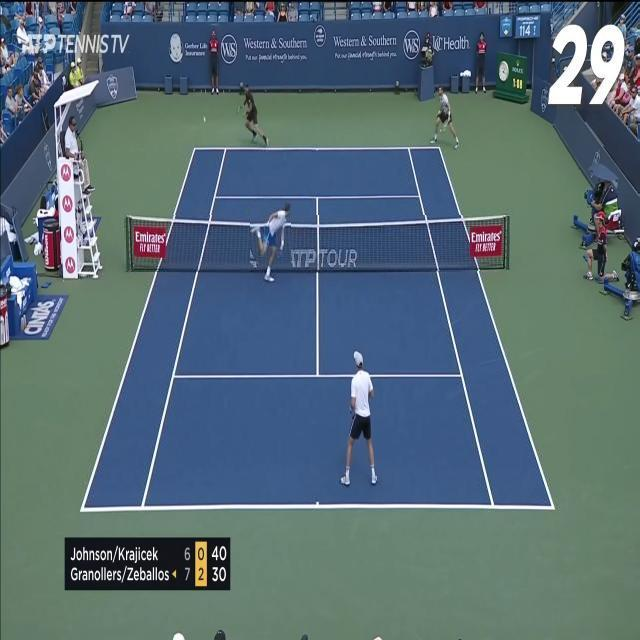court: (80, 146, 558, 512)
net: (125, 216, 511, 272)
player: (340, 350, 378, 487), (250, 202, 291, 284)
